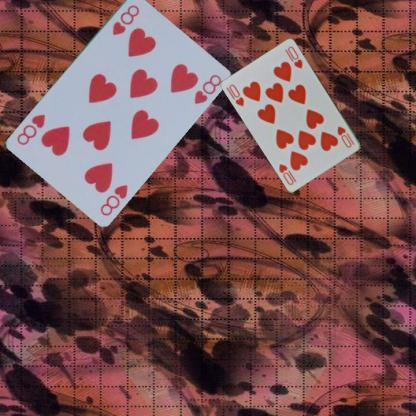10h: (334, 124, 356, 149), (226, 82, 245, 108)
8h: (109, 2, 141, 36), (97, 182, 129, 216)
